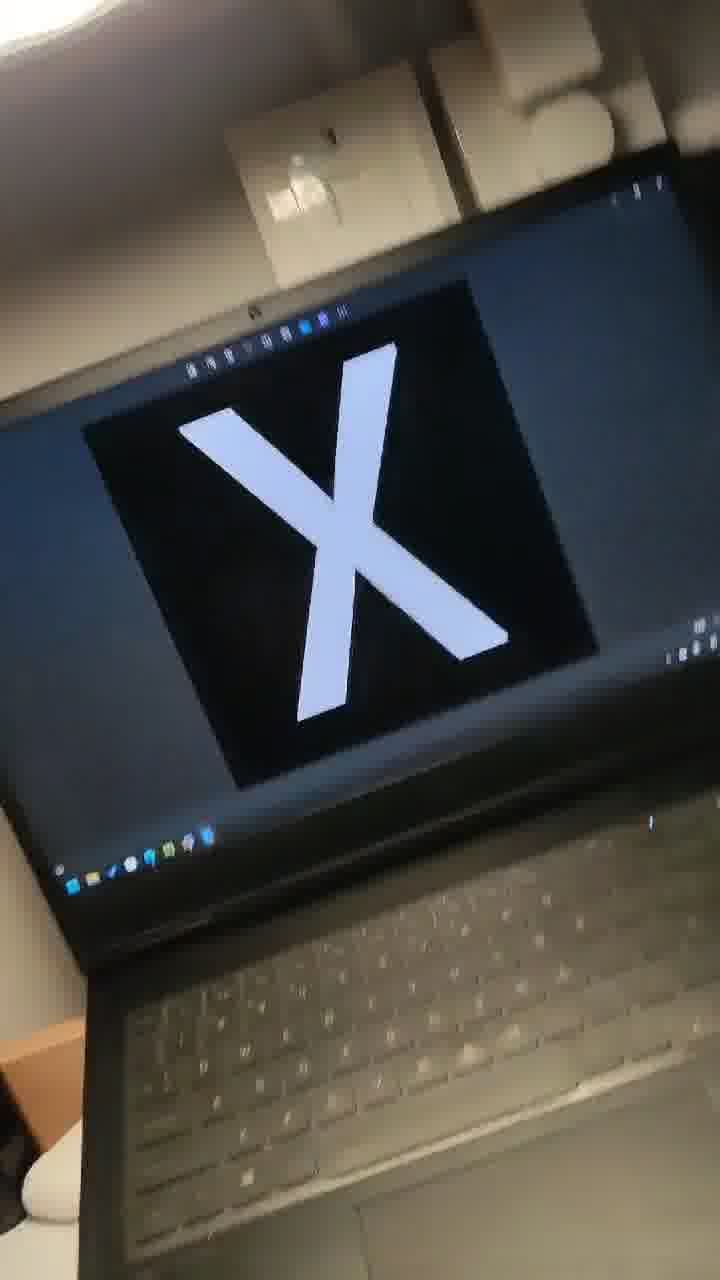X: (116, 294, 523, 726)
